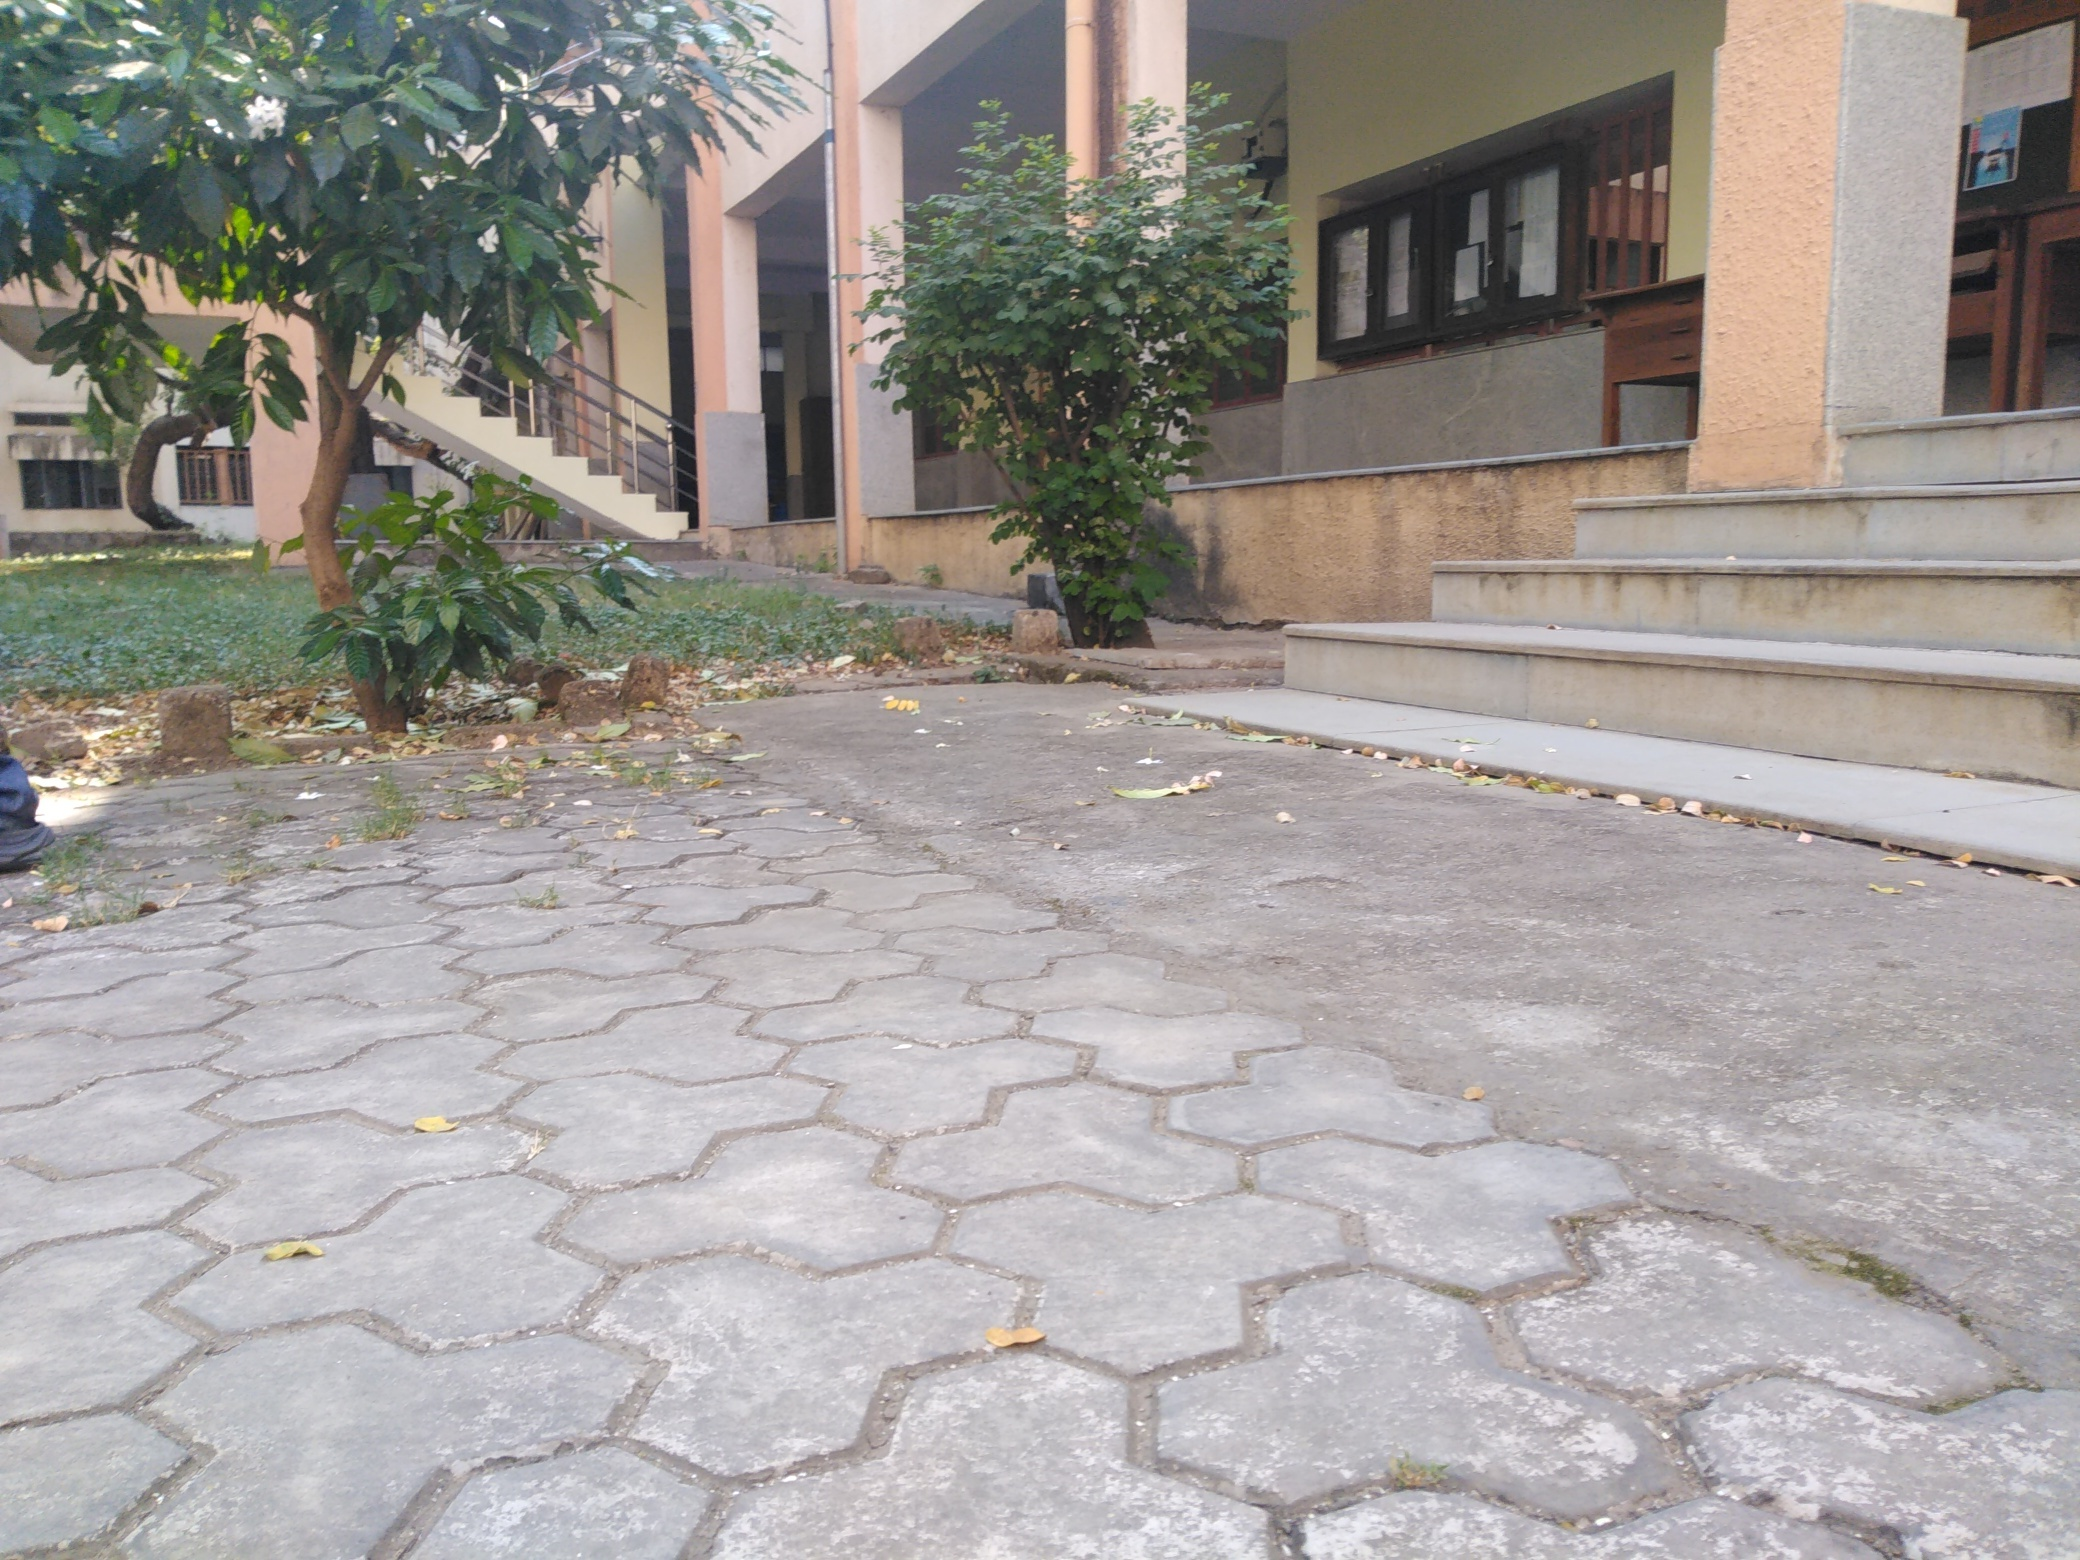stairs_up: (1269, 390, 2077, 791)
